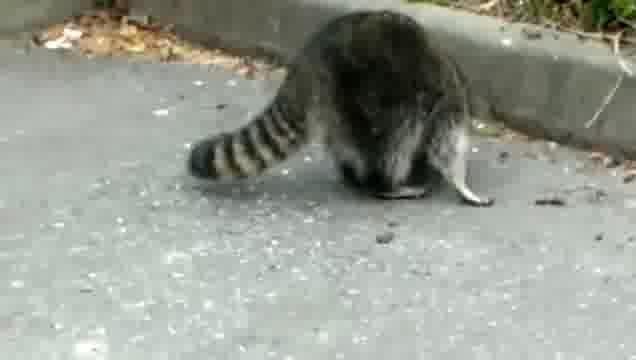raccoon: (189, 10, 496, 211)
